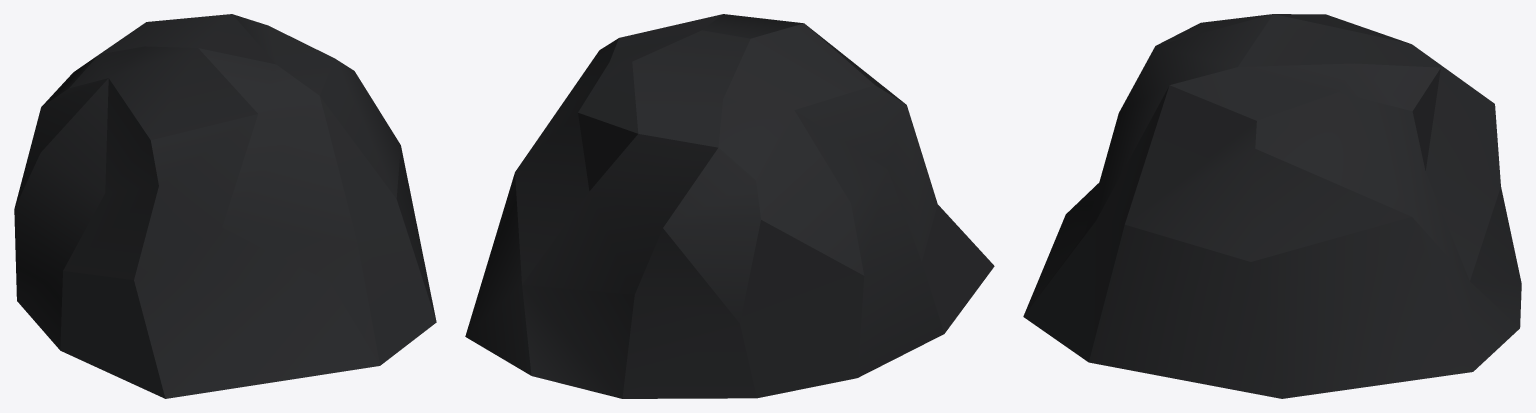
The model's file is Rock_7.fbx.
3 views of the same model, side by side, from view 1: azimuth 30°, elevation 25°; view 2: azimuth 150°, elevation 25°; view 3: azimuth 270°, elevation 25° (orthographic). The views are drawn at different scales.
Parts seen in each view (by area): view 1: Rock_7; view 2: Rock_7; view 3: Rock_7.
Boxes of the visible parts, x1=… form: Rock_7: x1=14, y1=14, x2=436, y2=398; Rock_7: x1=465, y1=14, x2=994, y2=398; Rock_7: x1=1023, y1=14, x2=1521, y2=398.
Size of the model in its own units: 40.38 by 25.24 by 42.52.
